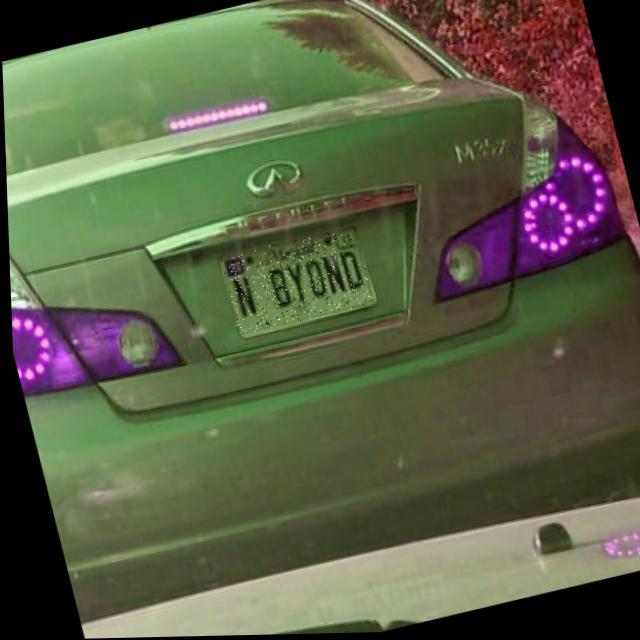license_plate: (217, 227, 373, 336)
